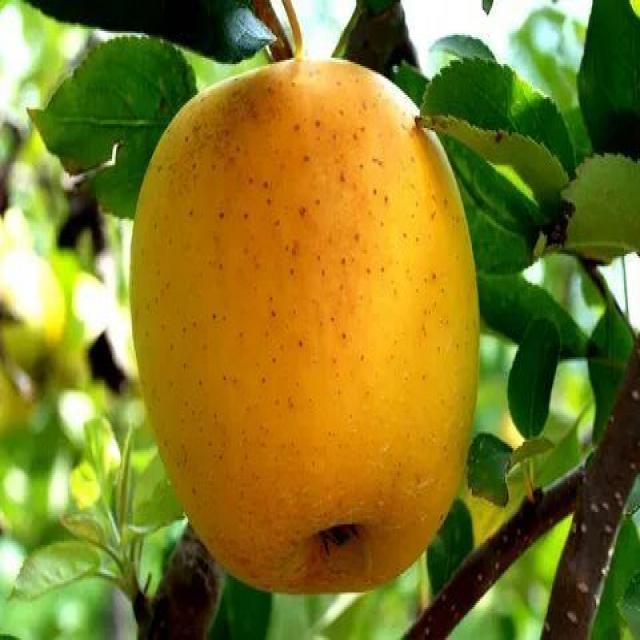Fresh Apple: (137, 57, 483, 603)
